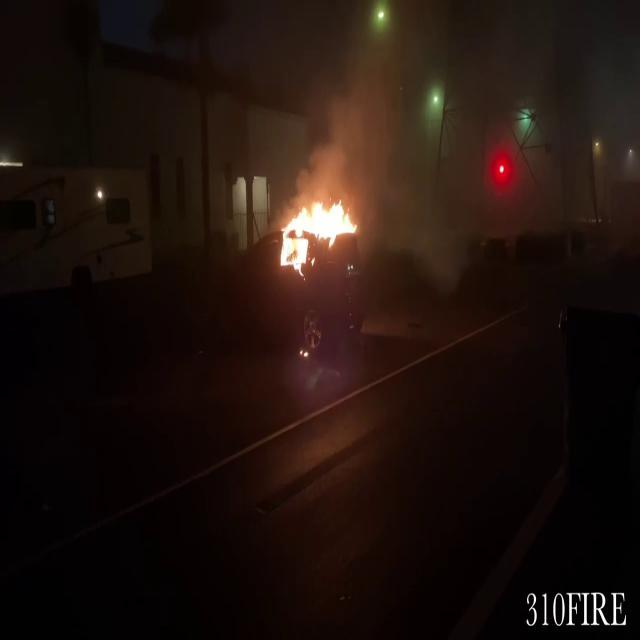Fire: (275, 185, 358, 270)
Smoke: (304, 3, 428, 216)
